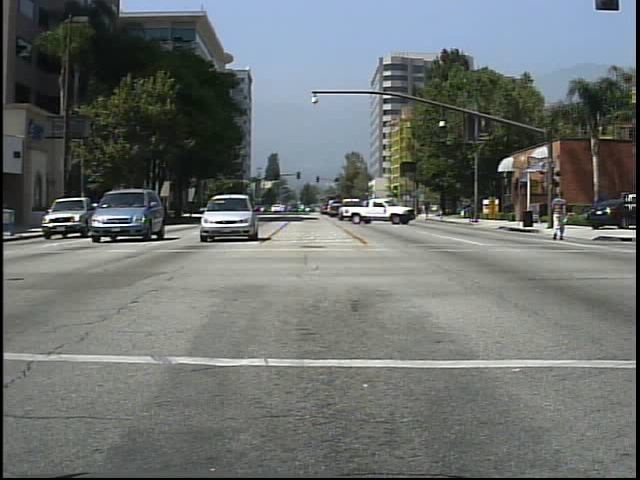person: (549, 186, 571, 242)
